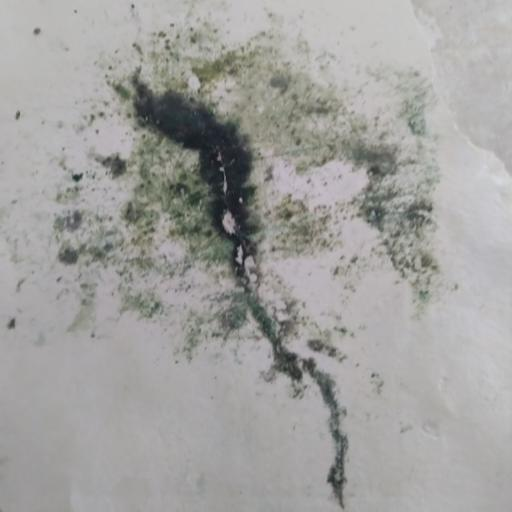algae: (61, 24, 454, 498)
